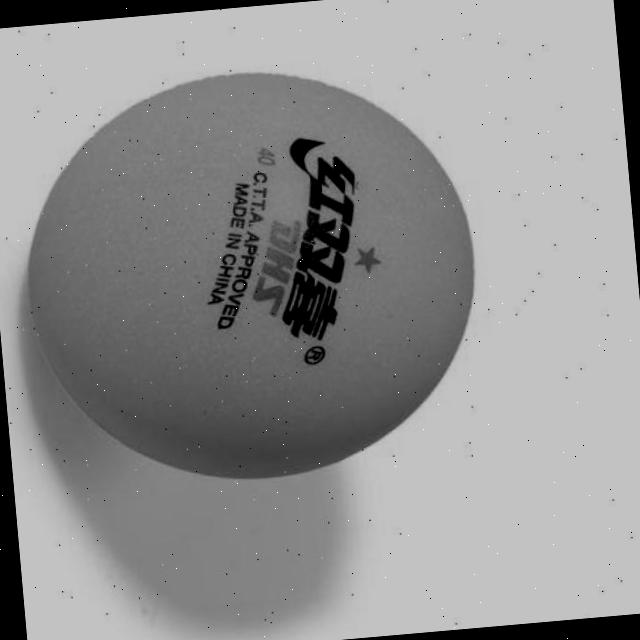ping-pong-ball: (6, 45, 500, 500)
